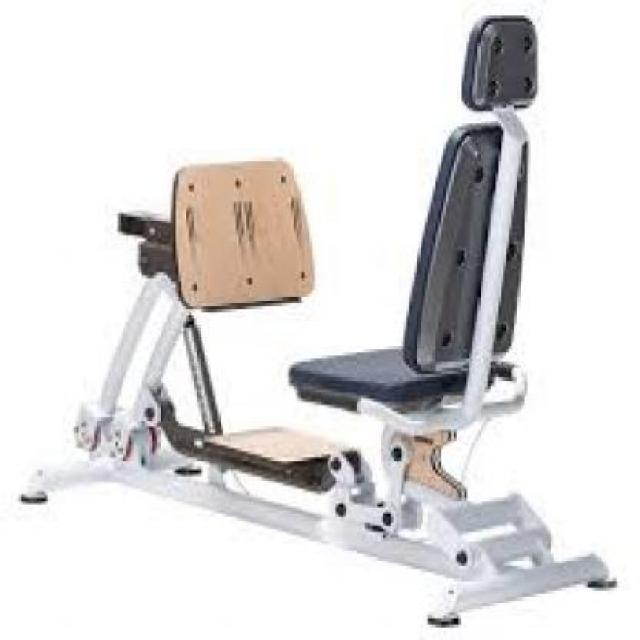leg press: (15, 7, 622, 640)
